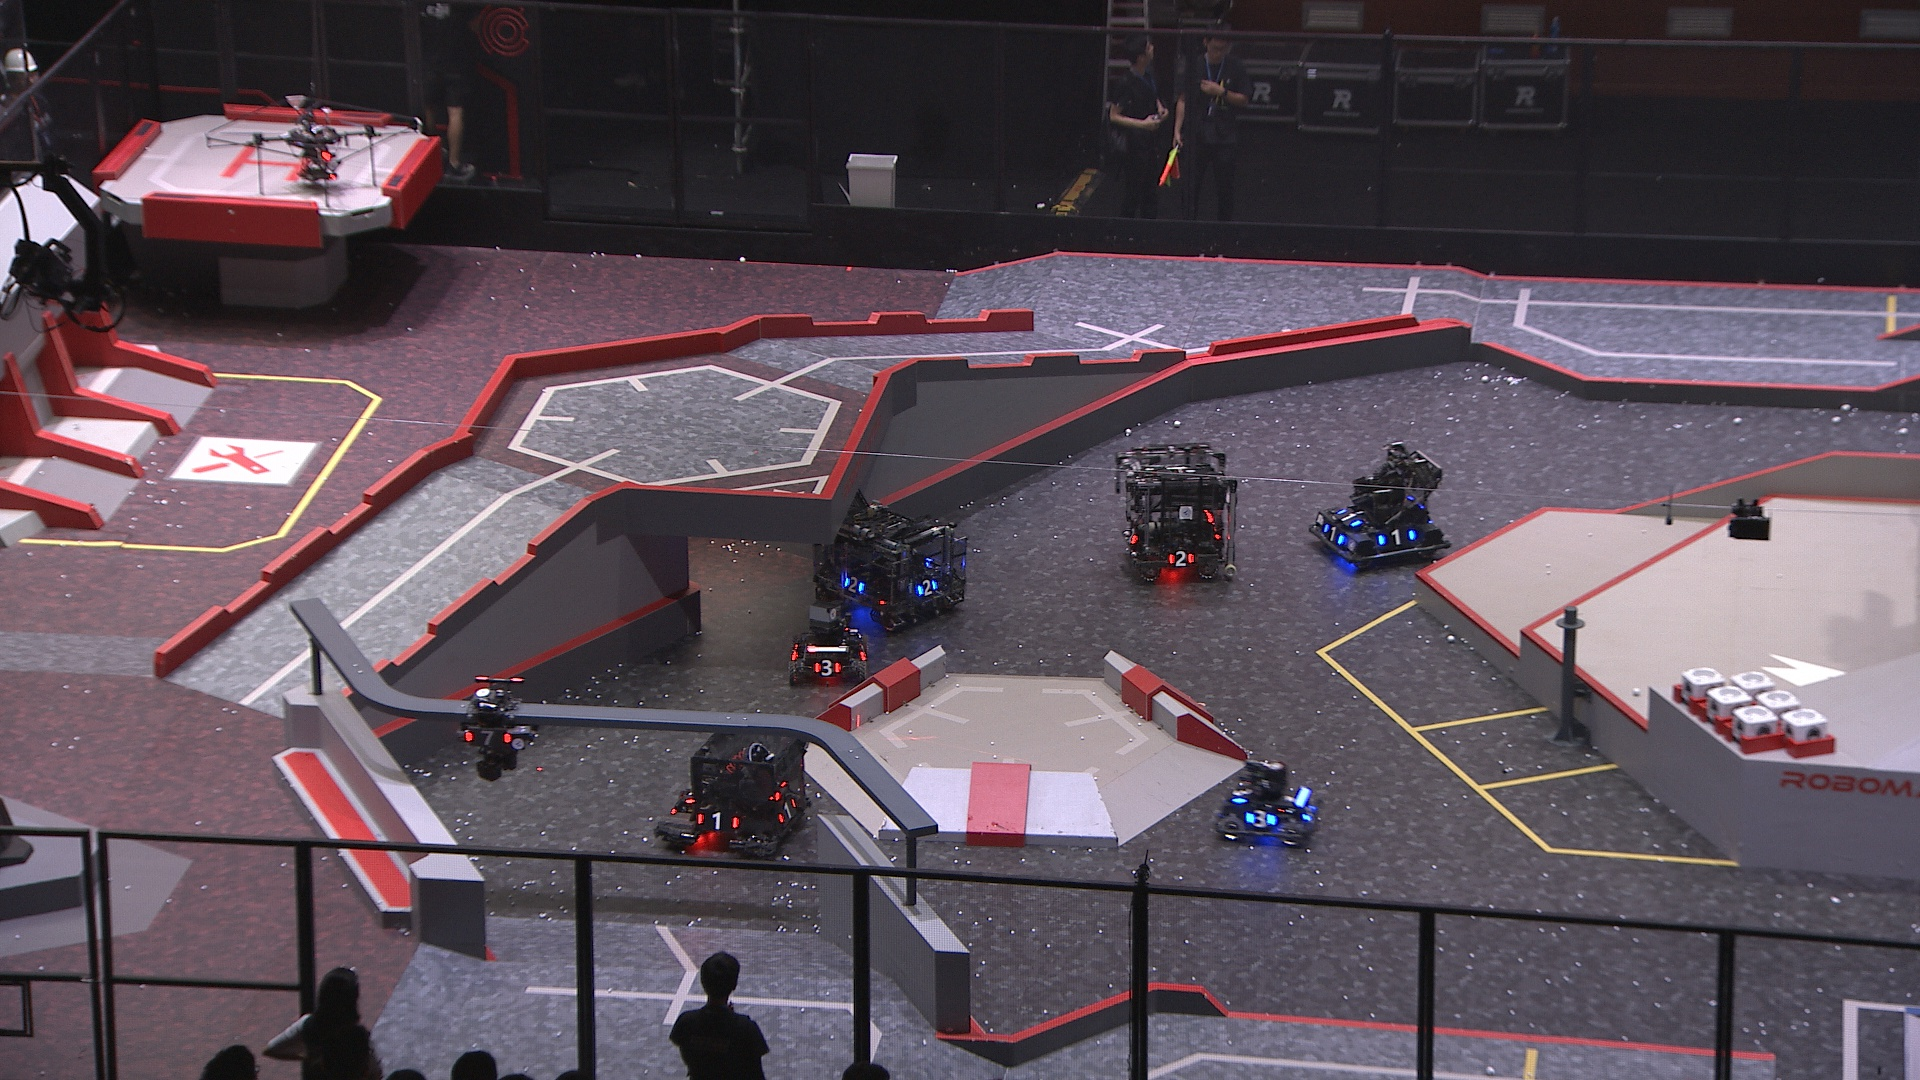armor: (460, 727, 514, 749), (1371, 526, 1420, 550), (698, 811, 741, 831), (1337, 506, 1367, 531), (1242, 807, 1278, 828), (1321, 524, 1349, 549), (913, 575, 940, 599), (775, 796, 796, 825), (1167, 549, 1197, 568), (808, 659, 840, 678), (1229, 782, 1253, 806), (843, 574, 866, 593), (852, 636, 869, 662), (1124, 524, 1139, 546), (1302, 803, 1316, 825)
car: (807, 491, 975, 632), (655, 717, 808, 864), (1112, 440, 1242, 588), (1309, 439, 1455, 571), (1211, 752, 1319, 853), (785, 593, 872, 695)
watcher: (456, 674, 537, 782)
